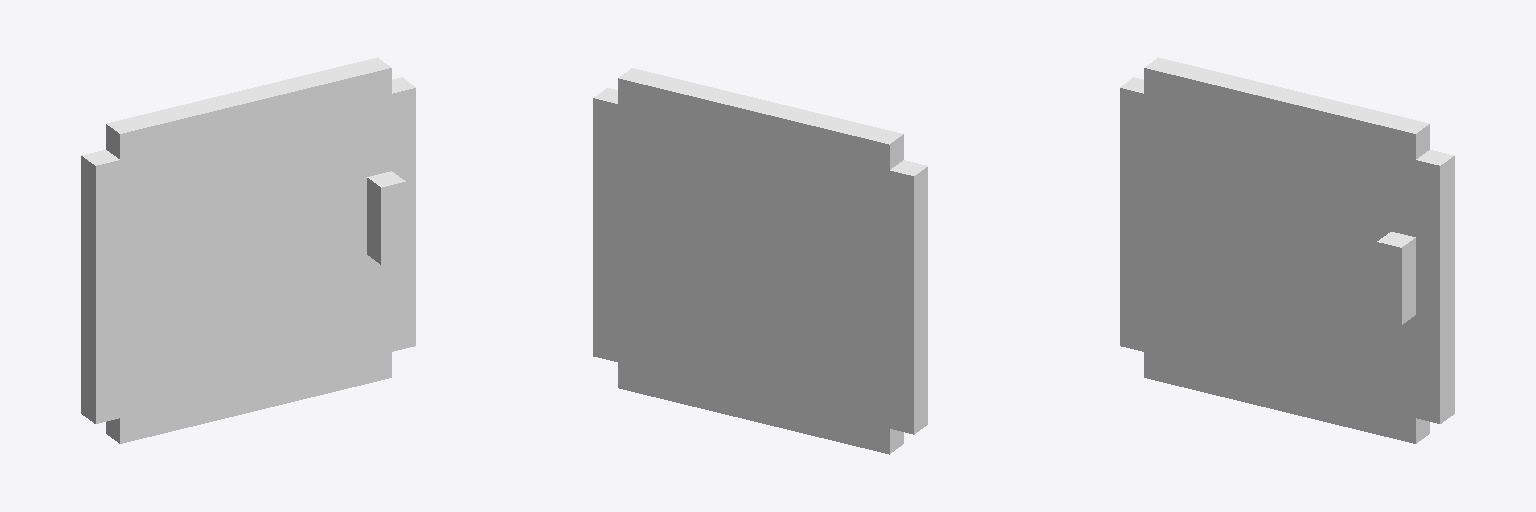
File: elec_doors-3.obj
3 renders of one model, left to right at view 1: azimuth 30°, elevation 25°; view 2: azimuth 150°, elevation 25°; view 3: azimuth 330°, elevation 25°, orthographic.
Visible parts, largest first — view 1: object 1; view 2: object 1; view 3: object 1.
Part boxes in pixels (left/top/right/bottom): object 1: left=81, top=57, right=415, bottom=443; object 1: left=593, top=68, right=927, bottom=454; object 1: left=1120, top=57, right=1454, bottom=443.
Size of the model in its own units: 1.3 by 1.2 by 0.2.